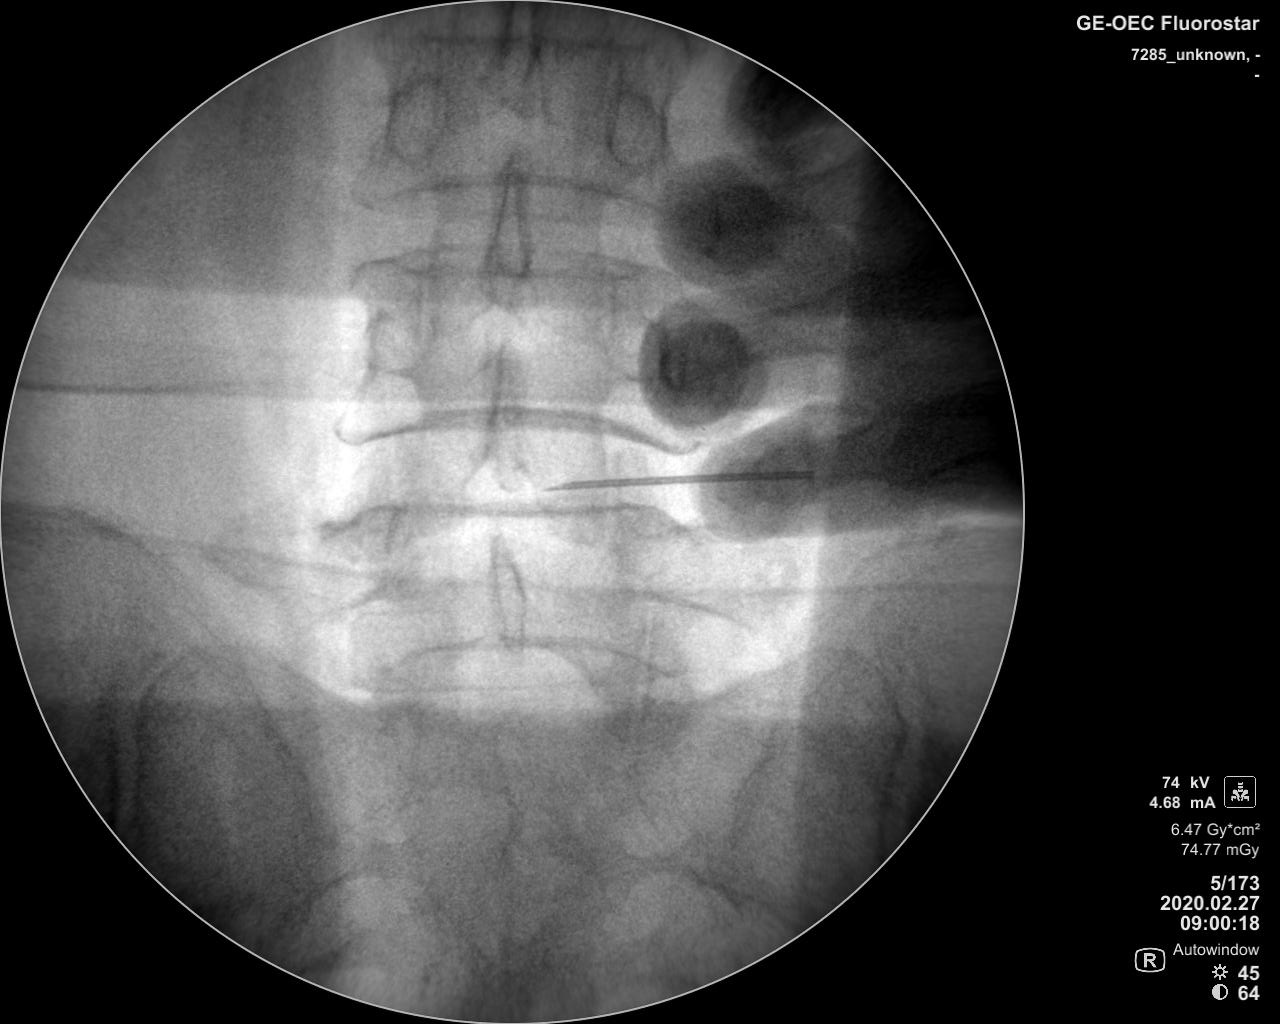eyes: (348, 260, 435, 375), (374, 79, 449, 167), (603, 76, 666, 169)
line: (326, 572, 725, 622), (353, 636, 673, 697), (359, 174, 649, 231), (335, 409, 676, 456), (341, 241, 664, 286), (331, 503, 664, 533), (392, 29, 646, 56)
nose: (474, 145, 531, 313), (488, 341, 530, 496), (491, 2, 546, 115), (483, 527, 528, 664)
